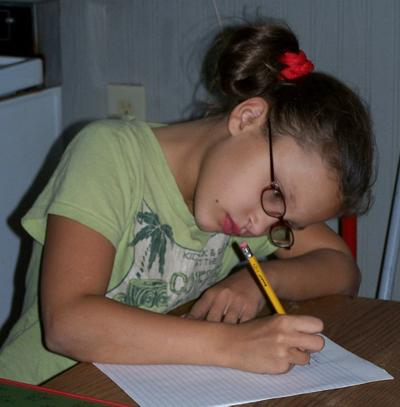person: (2, 24, 377, 391)
